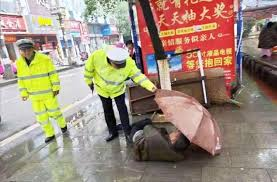fall: (124, 111, 191, 167)
